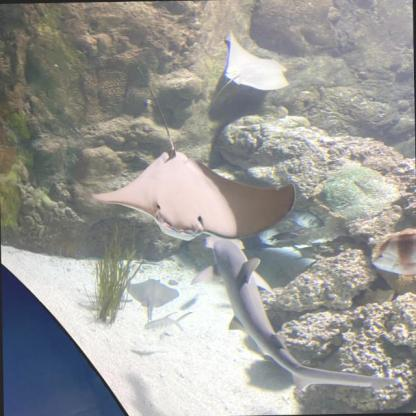fish: (370, 228, 416, 280), (141, 310, 195, 334)
shark: (188, 230, 398, 404)
stingray: (91, 145, 297, 241), (222, 29, 294, 94), (122, 277, 180, 310)
